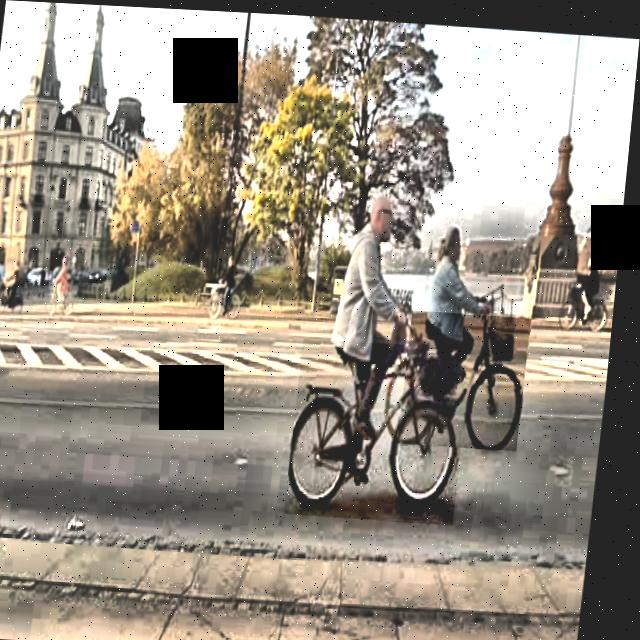bicycle: (293, 333, 479, 519), (406, 305, 537, 445)
